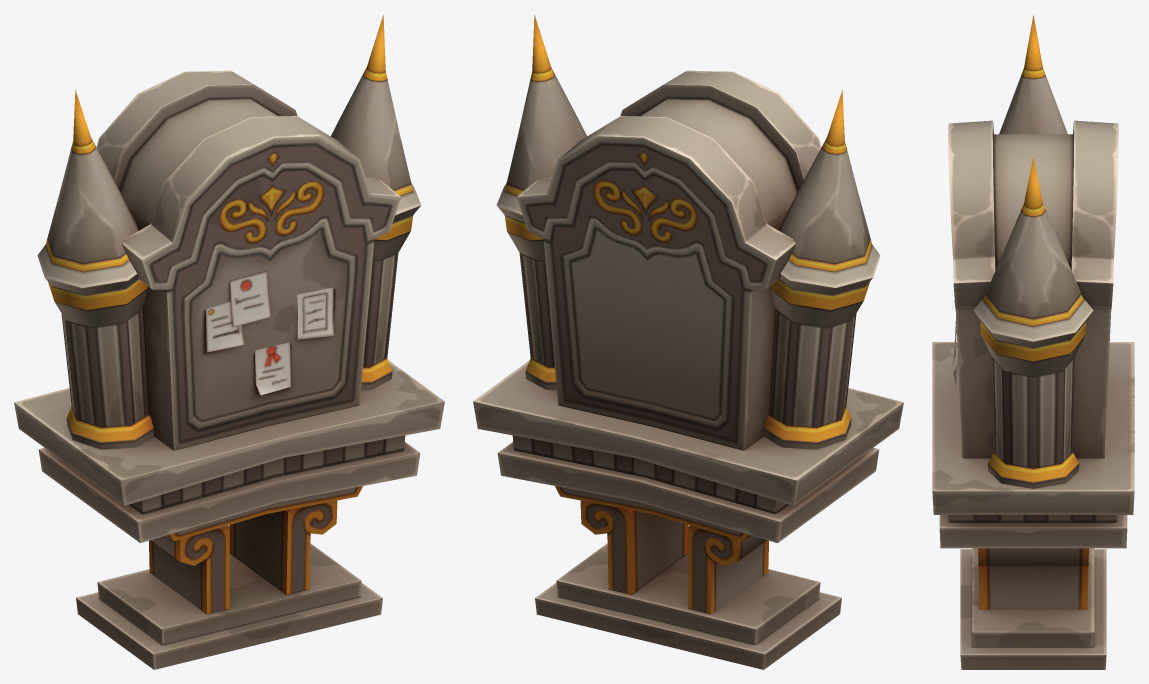
The model's file is building_22.FBX.
3 renders of one model, left to right at view 1: azimuth 30°, elevation 25°; view 2: azimuth 150°, elevation 25°; view 3: azimuth 270°, elevation 25°, orthographic. The views are drawn at different scales.
Parts seen in each view (by area): view 1: Box002; view 2: Box002; view 3: Box002.
Boxes of the visible parts, <box> form: Box002: <box>14,14,444,669</box>; Box002: <box>473,14,903,669</box>; Box002: <box>932,14,1134,669</box>.
Size of the model in its own units: 372 by 541 by 186.
